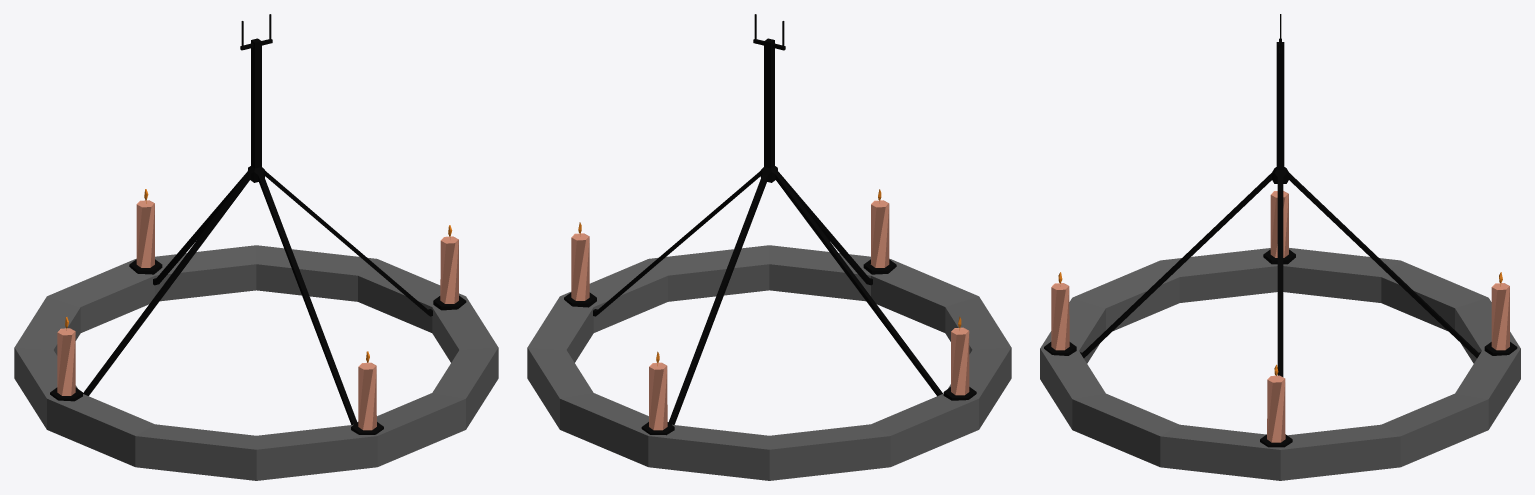
Rendered from Chandelier_01.fbx.
The picture shows the model from 3 angles, left to right: view 1: azimuth 30°, elevation 25°; view 2: azimuth 150°, elevation 25°; view 3: azimuth 270°, elevation 25°; orthographic projection.
Parts seen in each view (by area): view 1: Chandelier_01; view 2: Chandelier_01; view 3: Chandelier_01.
Boxes of the visible parts, x1,y1,x2,y2 form: Chandelier_01: [14, 14, 498, 480]; Chandelier_01: [527, 14, 1011, 480]; Chandelier_01: [1040, 14, 1520, 480].
Size of the model in its own units: 156 by 129 by 156.
